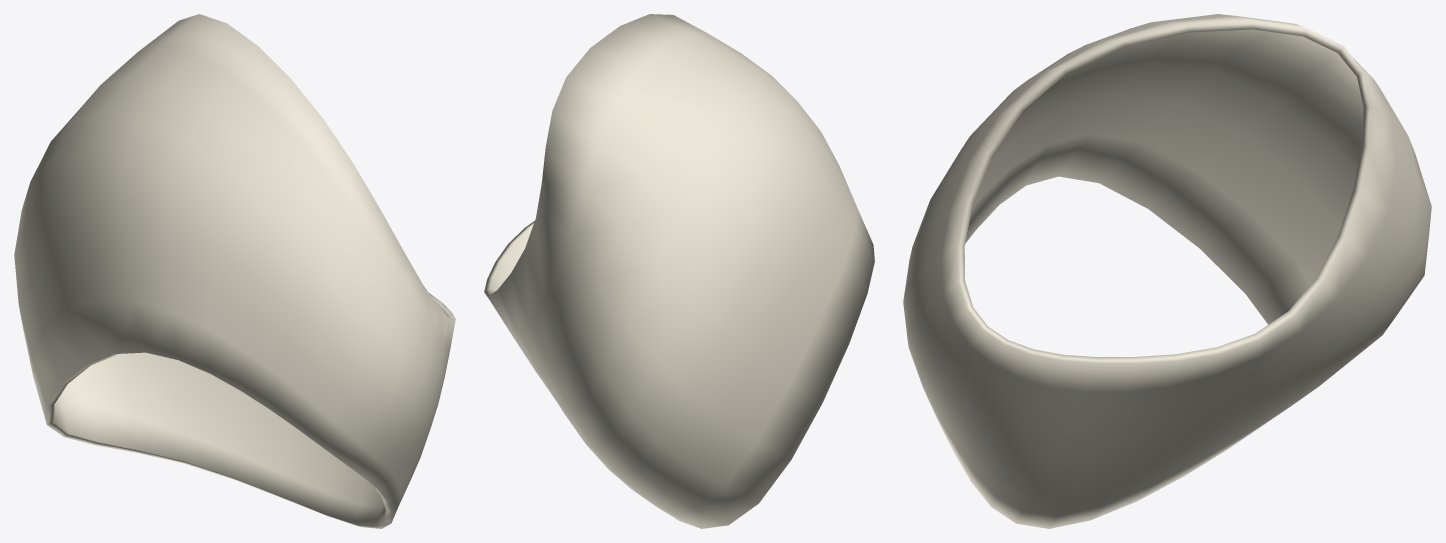
3 renders of one model, left to right at view 1: azimuth 30°, elevation 25°; view 2: azimuth 150°, elevation 25°; view 3: azimuth 270°, elevation 25°, orthographic. The views are drawn at different scales.
Visible parts, largest first — view 1: ZA_0e2b0016acc987e5; view 2: ZA_0e2b0016acc987e5; view 3: ZA_0e2b0016acc987e5.
Part boxes in pixels (x1,y1,x2,y2): ZA_0e2b0016acc987e5: [14, 14, 455, 528]; ZA_0e2b0016acc987e5: [484, 14, 874, 528]; ZA_0e2b0016acc987e5: [903, 14, 1431, 528].
Bounding box in the file's own units: 0.0236 × 0.0312 × 0.0308.
